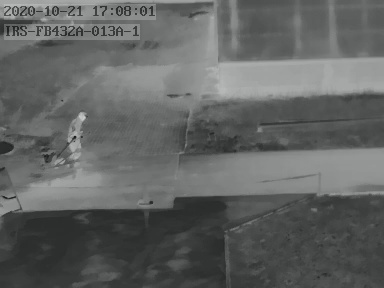person: (64, 109, 87, 165)
